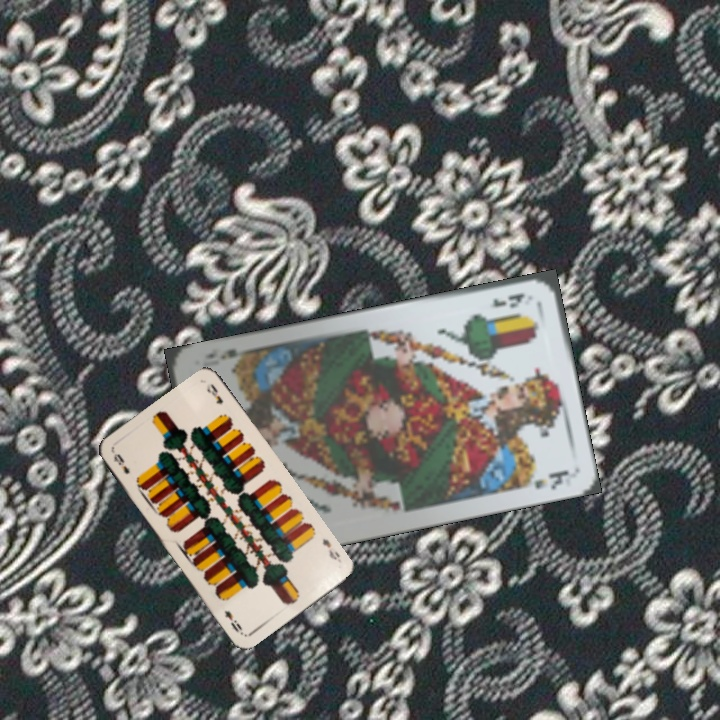E9: (318, 534, 343, 563), (109, 449, 132, 477)
EK: (488, 289, 528, 310)
